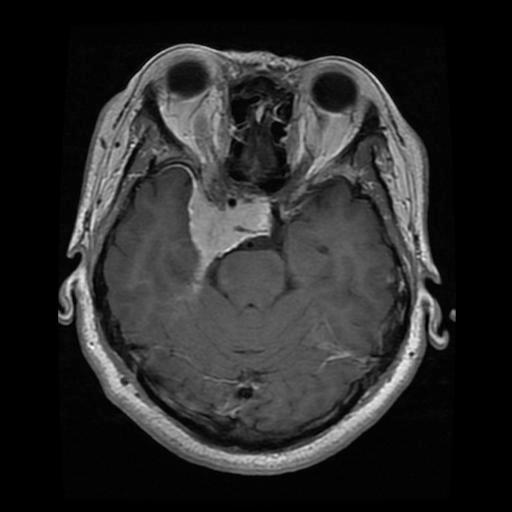Tumour-Meningioma: (162, 179, 277, 320)
